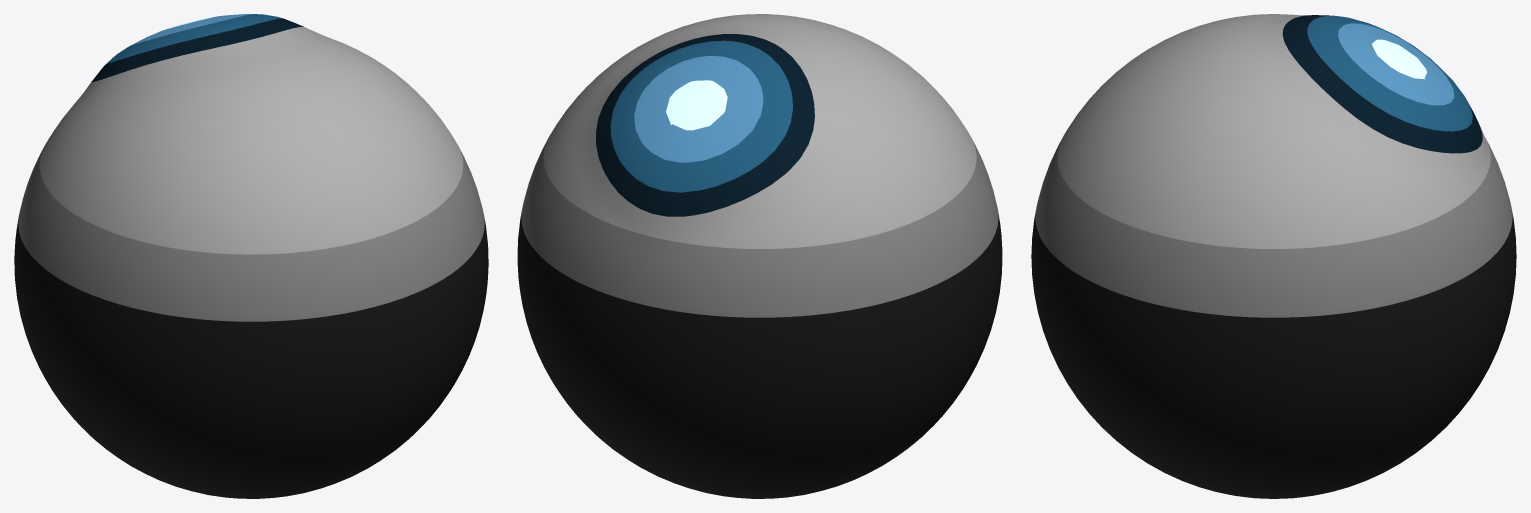
File: squad_eyeball.glb
The picture shows the model from 3 angles, left to right: view 1: azimuth 30°, elevation 25°; view 2: azimuth 150°, elevation 25°; view 3: azimuth 270°, elevation 25°; orthographic projection. The views are drawn at different scales.
Parts seen in each view (by area): view 1: squad_eyeball; view 2: squad_eyeball; view 3: squad_eyeball.
Part boxes in pixels (box(x1,y1,x2,y2)): squad_eyeball: box(14, 14, 488, 498); squad_eyeball: box(517, 14, 1002, 498); squad_eyeball: box(1031, 14, 1516, 498).
Size of the model in its own units: 11 by 11.14 by 11.
